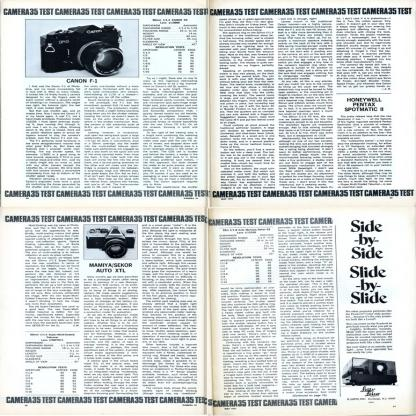Camera: (42, 25, 127, 75), (84, 223, 136, 259), (345, 357, 397, 383)
